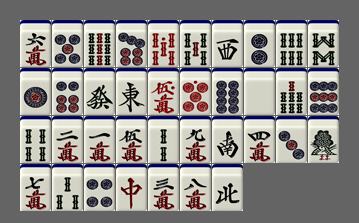0m: (148, 68, 179, 115)
0p: (180, 68, 211, 115)
0s: (148, 20, 179, 67)
1m: (84, 116, 115, 163)
1p: (20, 68, 51, 115)
1s: (308, 116, 339, 163)
1z: (116, 68, 147, 115)
2m: (52, 116, 83, 163)
2p: (244, 20, 275, 67)
2s: (148, 116, 179, 163)
2z: (212, 116, 243, 163)
3m: (148, 164, 179, 211)
3p: (276, 116, 307, 163)
3s: (52, 164, 83, 211)
3z: (212, 20, 243, 67)
4m: (244, 116, 275, 163)
4p: (84, 164, 115, 211)
4s: (20, 116, 51, 163)
4z: (212, 164, 243, 211)
5m: (116, 116, 147, 163)
5p: (52, 20, 83, 67)
5s: (180, 20, 211, 67)
5z: (244, 68, 275, 115)
6m: (20, 20, 51, 67)
6p: (52, 68, 83, 115)
6s: (276, 20, 307, 67)
6z: (84, 68, 115, 115)
7m: (20, 164, 51, 211)
7p: (116, 20, 147, 67)
7s: (276, 68, 307, 115)
7z: (116, 164, 147, 211)
8m: (180, 164, 211, 211)
8p: (212, 68, 243, 115)
8s: (308, 20, 339, 67)
9m: (180, 116, 211, 163)
9p: (308, 68, 339, 115)
9s: (84, 20, 115, 67)
